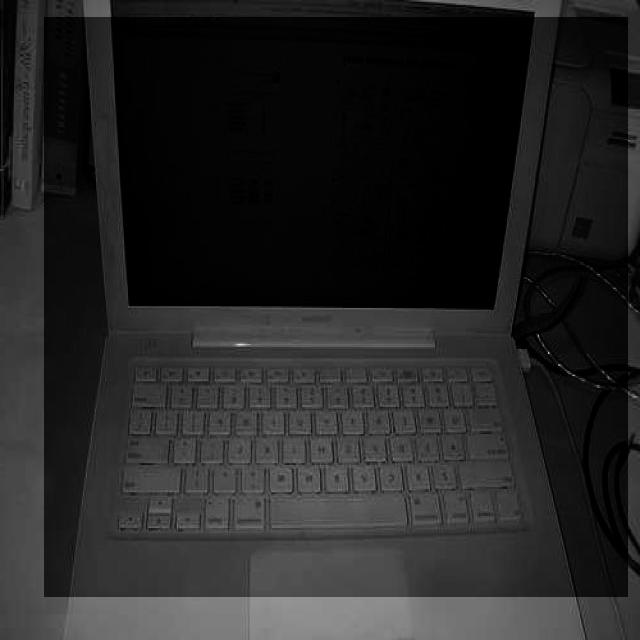-keyboard-: (44, 18, 628, 598)
